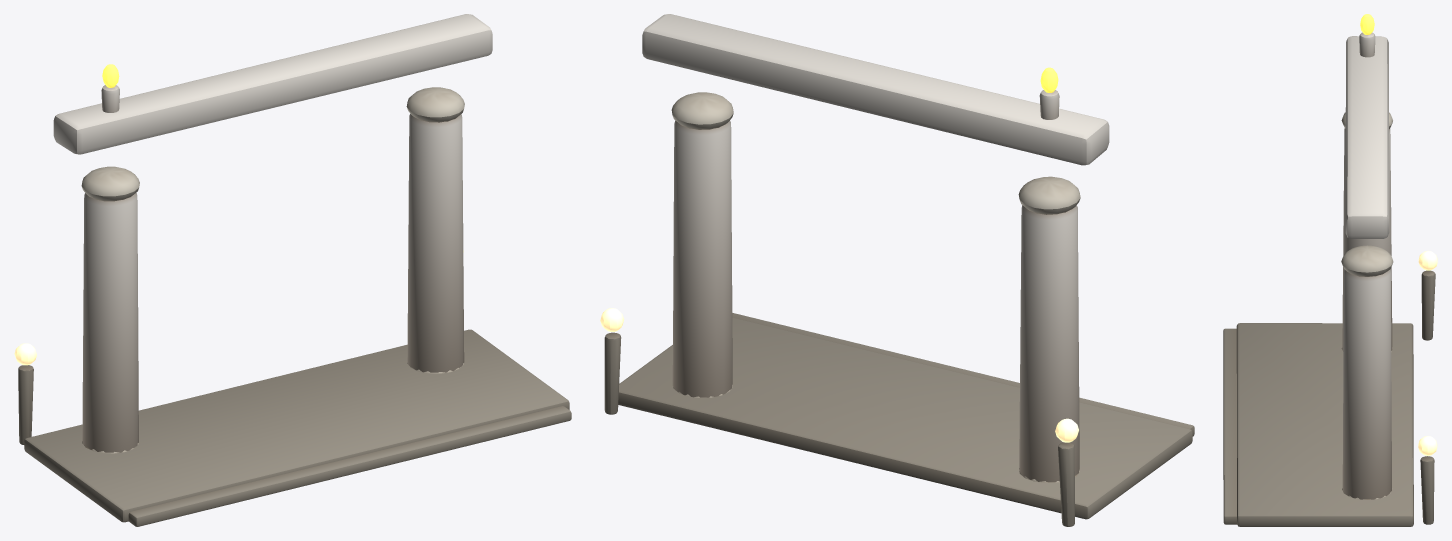
3 views of the same model, side by side, from view 1: azimuth 30°, elevation 25°; view 2: azimuth 150°, elevation 25°; view 3: azimuth 270°, elevation 25° (orthographic). The views are drawn at different scales.
Visible parts, largest first — view 1: gate_ab391663; view 2: gate_ab391663; view 3: gate_ab391663.
Part boxes in pixels (x1=…): gate_ab391663: x1=14, y1=14, x2=571, y2=526; gate_ab391663: x1=600, y1=14, x2=1194, y2=526; gate_ab391663: x1=1223, y1=14, x2=1437, y2=526.
Size of the model in its own units: 5.46 by 4.55 by 2.55.
